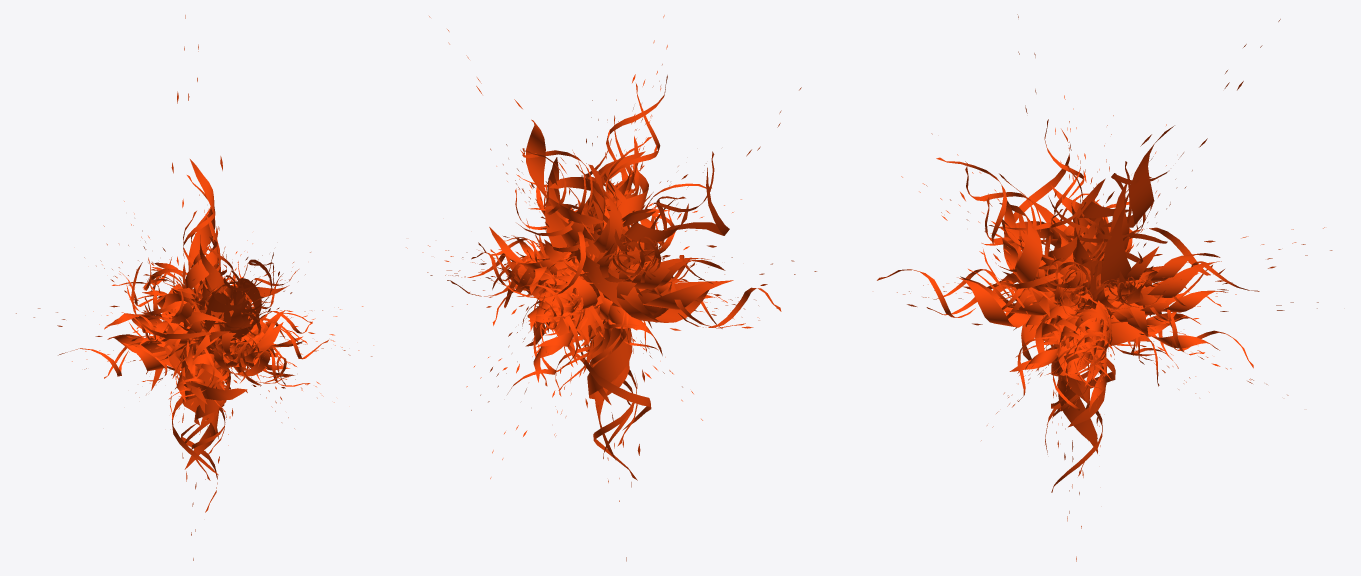
The model's file is fireball_08.obj.
3 renders of one model, left to right at view 1: azimuth 30°, elevation 25°; view 2: azimuth 150°, elevation 25°; view 3: azimuth 270°, elevation 25°, orthographic. The views are drawn at different scales.
Visible parts, largest first — view 1: Fireball; view 2: Fireball; view 3: Fireball.
Part boxes in pixels (box(x1,y1,x2,y2)): Fireball: box(16, 15, 373, 560); Fireball: box(406, 15, 816, 561); Fireball: box(877, 14, 1332, 561).
Size of the model in its own units: 1.73 by 2.29 by 1.76.
